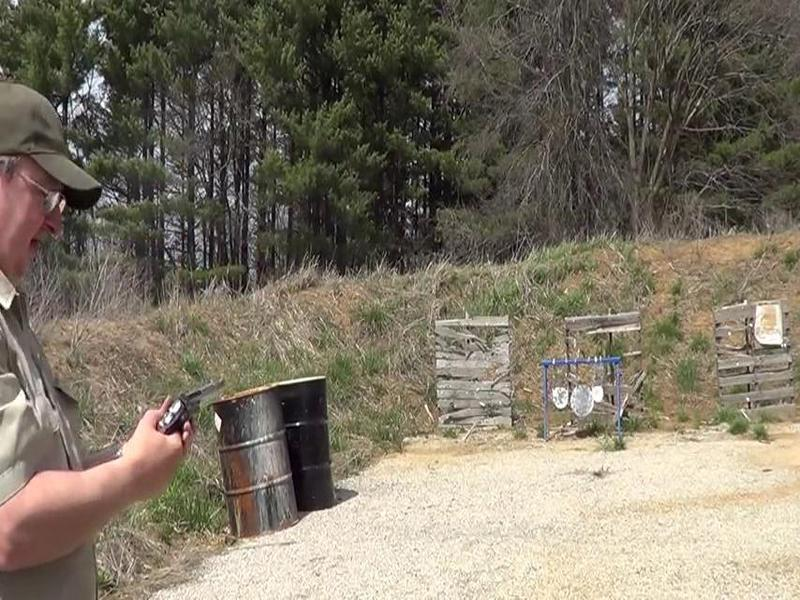Revolver: (137, 380, 234, 453)
